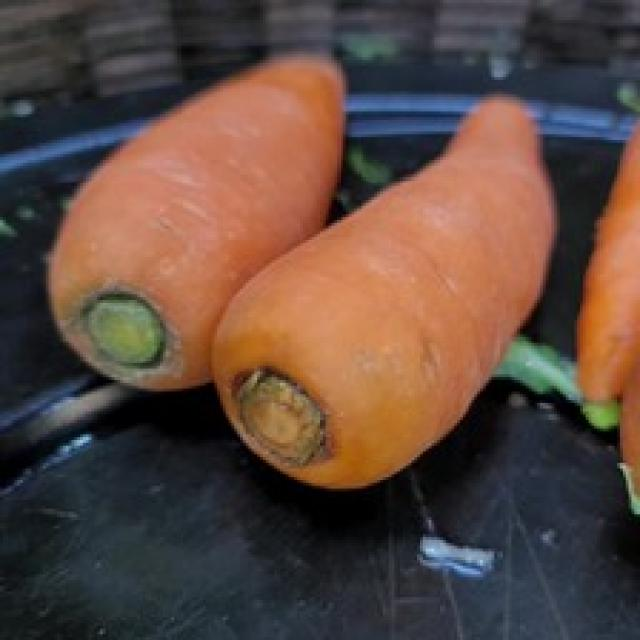carrot: (214, 99, 562, 491), (48, 45, 344, 390)
